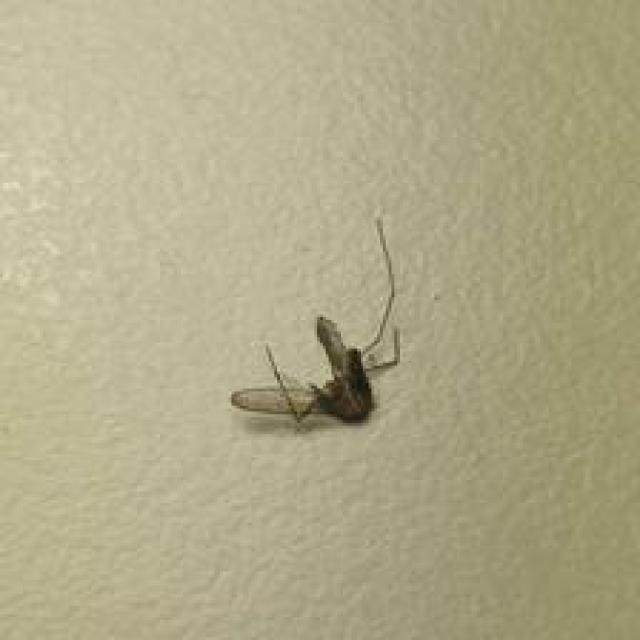Culex: (228, 216, 403, 427)
